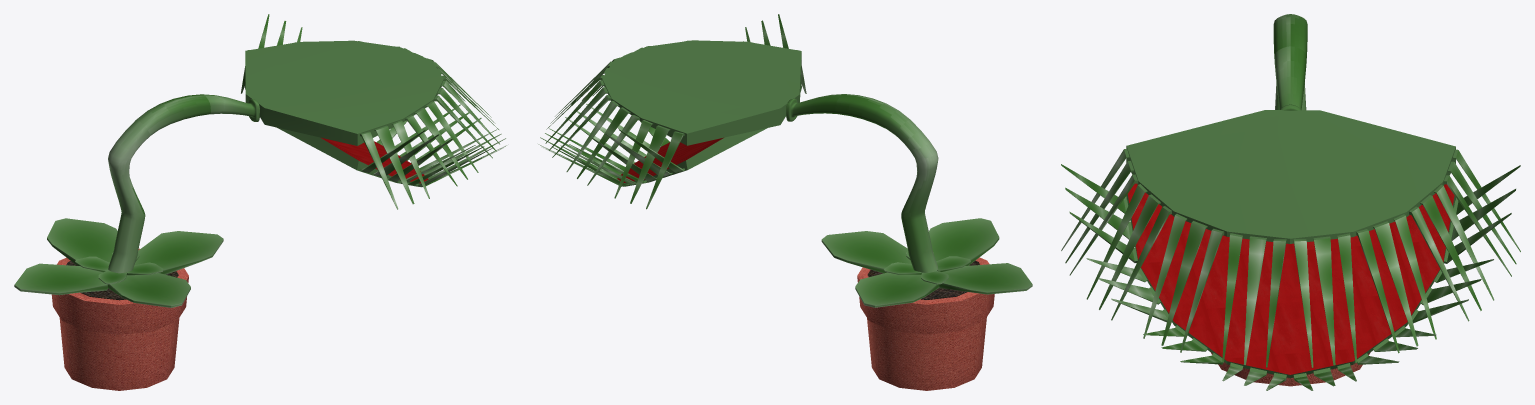
The model's file is venus_trap.fbx.
3 renders of one model, left to right at view 1: azimuth 30°, elevation 25°; view 2: azimuth 150°, elevation 25°; view 3: azimuth 270°, elevation 25°, orthographic. The views are drawn at different scales.
Parts seen in each view (by area): view 1: HeadMouth001, Pot001, Leaves001, Stem, HeadMouth002; view 2: HeadMouth001, Pot001, Leaves001, Stem, HeadMouth002; view 3: HeadMouth001, HeadMouth002, Stem, Pot001.
Part boxes in pixels (x1,y1,x2,y2): HeadMouth001: (241, 40, 499, 209); Pot001: (51, 248, 188, 390); Leaves001: (14, 218, 223, 307); Stem: (108, 94, 259, 273); HeadMouth002: (245, 14, 506, 187); HeadMouth001: (545, 40, 806, 209); Pot001: (857, 257, 994, 390); Leaves001: (821, 218, 1032, 307); Stem: (786, 94, 938, 272); HeadMouth002: (538, 14, 801, 186); HeadMouth001: (1061, 110, 1520, 367); HeadMouth002: (1061, 164, 1520, 390); Stem: (1273, 14, 1307, 110); Pot001: (1210, 352, 1370, 386).
Size of the model in its own units: 82.87 by 42.64 by 48.06.
Materials: 5 (5 with a texture image).
